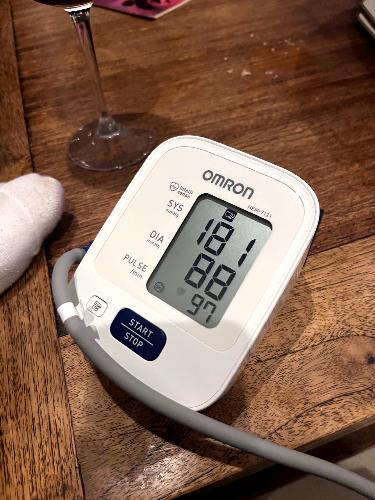bpm: (139, 179, 282, 334)
